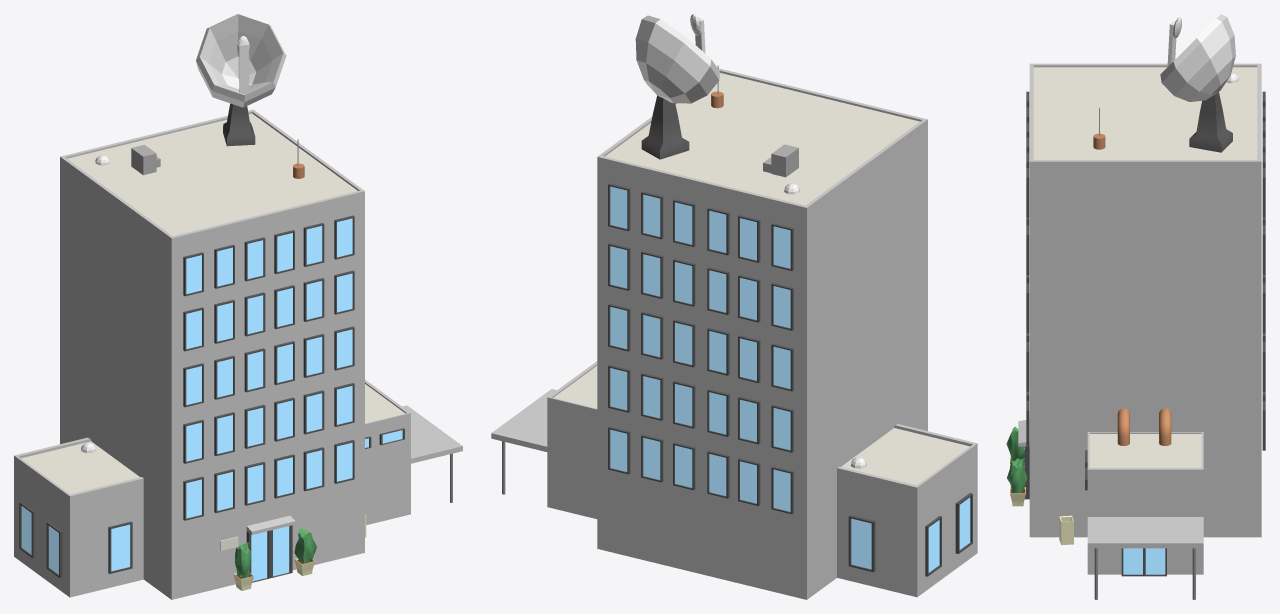
Rendered from Headquarters Building.glb.
The picture shows the model from 3 angles, left to right: view 1: azimuth 30°, elevation 25°; view 2: azimuth 150°, elevation 25°; view 3: azimuth 270°, elevation 25°; orthographic projection. The views are drawn at different scales.
Visible parts, largest first — view 1: pCube1, pSphere1, pCube36, pCube5, pCube20, pCube7, pCube14, pCube32, pCube26, pCube16, pCube28, pCube11 (+25 smaller); view 2: pCube1, pSphere1, pCube5, pCube39, pCube43, pCube45, pCube66, pCube41, pCube49, pCube50, pCube51, pCube52 (+25 smaller); view 3: pCube1, pSphere1, pCube5, pCube78, pCube77, pCube75.001, pCylinder5, pCylinder6, pCube71, pCube75.
Part boxes in pixels (left/top/right/bottom): pCube1: left=14, top=109, right=462, bottom=599; pSphere1: left=196, top=14, right=286, bottom=107; pCube36: left=108, top=521, right=132, bottom=573; pCube5: left=223, top=103, right=255, bottom=146; pCube20: left=244, top=348, right=265, bottom=392; pCube7: left=303, top=447, right=324, bottom=491; pCube14: left=244, top=404, right=265, bottom=448; pCube32: left=244, top=237, right=265, bottom=281; pCube26: left=244, top=292, right=265, bottom=336; pCube16: left=303, top=390, right=324, bottom=434; pCube28: left=303, top=278, right=324, bottom=321; pCube11: left=244, top=461, right=265, bottom=505; pCube1: left=491, top=68, right=977, bottom=599; pSphere1: left=635, top=15, right=719, bottom=103; pCube5: left=641, top=95, right=689, bottom=159; pCube39: left=848, top=515, right=875, bottom=572; pCube43: left=771, top=466, right=793, bottom=514; pCube45: left=707, top=451, right=729, bottom=498; pCube66: left=707, top=207, right=729, bottom=255; pCube41: left=641, top=434, right=663, bottom=482; pCube49: left=673, top=380, right=695, bottom=428; pCube50: left=641, top=373, right=663, bottom=420; pCube51: left=608, top=365, right=630, bottom=412; pCube52: left=771, top=343, right=793, bottom=391; pCube1: left=1018, top=63, right=1261, bottom=574; pSphere1: left=1160, top=14, right=1235, bottom=101; pCube5: left=1189, top=92, right=1232, bottom=152; pCube78: left=1144, top=548, right=1166, bottom=576; pCube77: left=1121, top=548, right=1143, bottom=576; pCube75.001: left=1007, top=457, right=1027, bottom=493; pCylinder5: left=1159, top=408, right=1171, bottom=445; pCylinder6: left=1117, top=408, right=1129, bottom=445; pCube71: left=1059, top=515, right=1073, bottom=544; pCube75: left=1006, top=426, right=1024, bottom=460.
Size of the model in its own units: 7.78 by 9.09 by 4.25.
